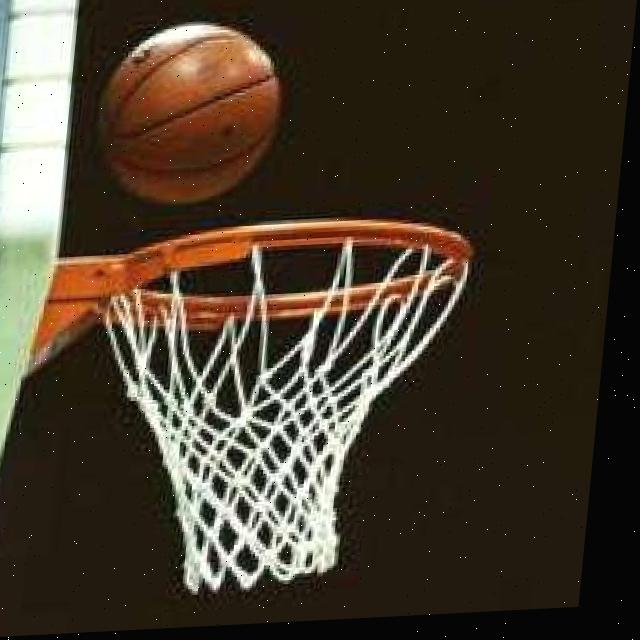basketball: (94, 19, 287, 206)
hoop: (77, 212, 475, 601)
